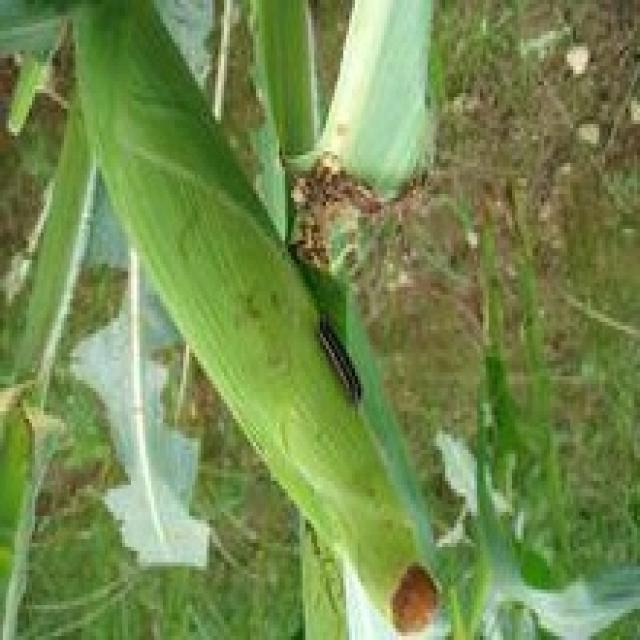army worm: (315, 319, 368, 412)
